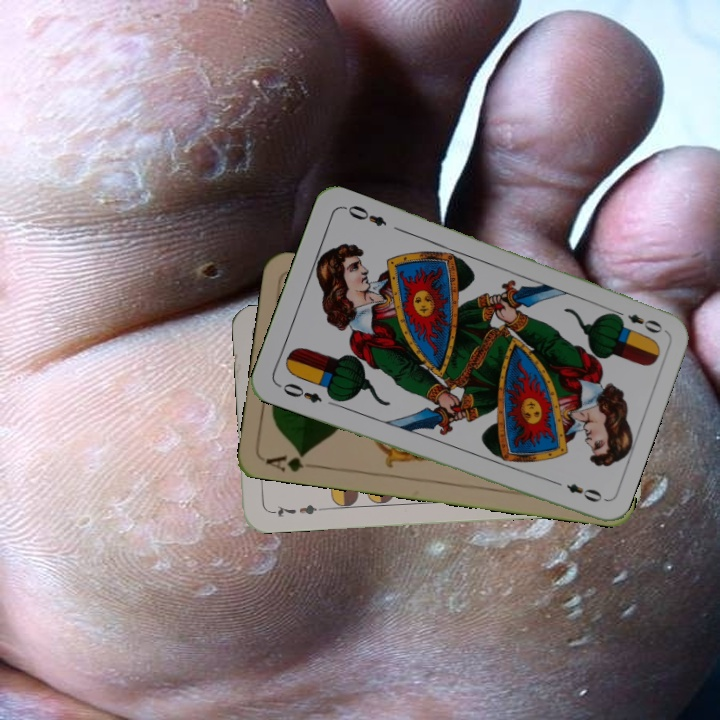E7: (267, 500, 326, 520)
EO: (609, 306, 666, 336), (279, 378, 325, 406)
GA: (261, 448, 321, 475)
